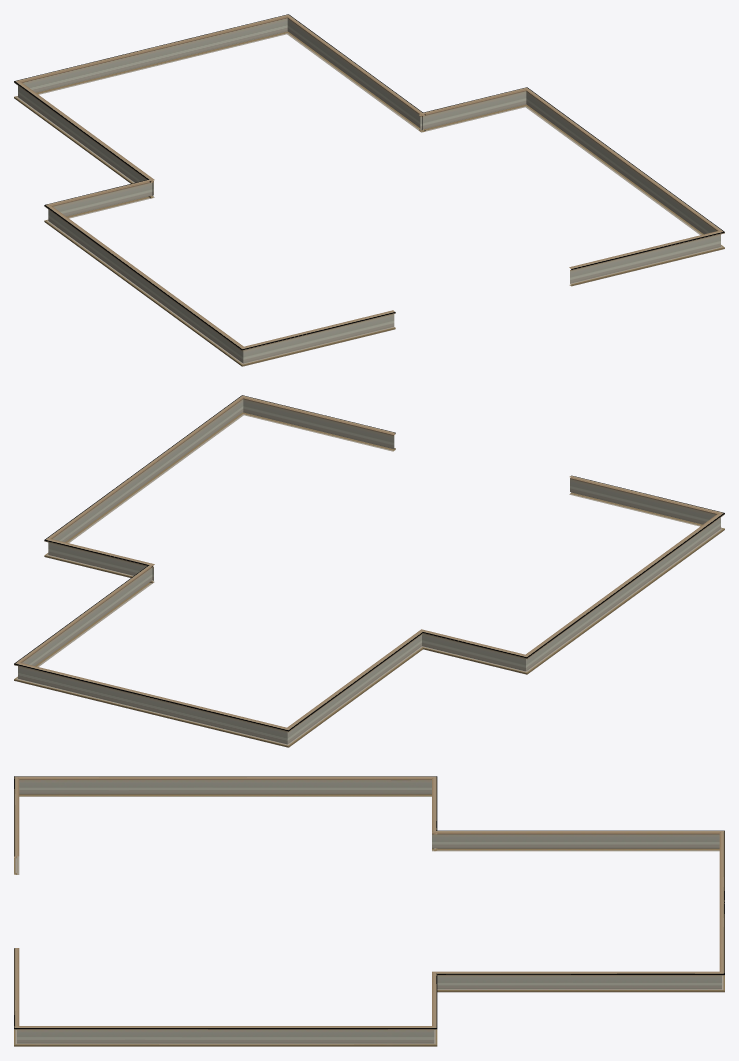
The model's file is pm-launch-building-coon-exterior-joint-1.001.glb.
3 views of the same model, one above another, from view 1: azimuth 30°, elevation 25°; view 2: azimuth 150°, elevation 25°; view 3: azimuth 270°, elevation 25° (orthographic). The views are drawn at different scales.
Parts seen in each view (by area): view 1: Launch_Building_Coon_Exterior_Joint1.001; view 2: Launch_Building_Coon_Exterior_Joint1.001; view 3: Launch_Building_Coon_Exterior_Joint1.001.
Part boxes in pixels (x1,y1,x2,y2): Launch_Building_Coon_Exterior_Joint1.001: [14, 14, 724, 366]; Launch_Building_Coon_Exterior_Joint1.001: [14, 395, 724, 747]; Launch_Building_Coon_Exterior_Joint1.001: [14, 776, 724, 1046].
Size of the model in its own units: 29.16 by 1.02 by 34.75.
1 material, 1 textured.
